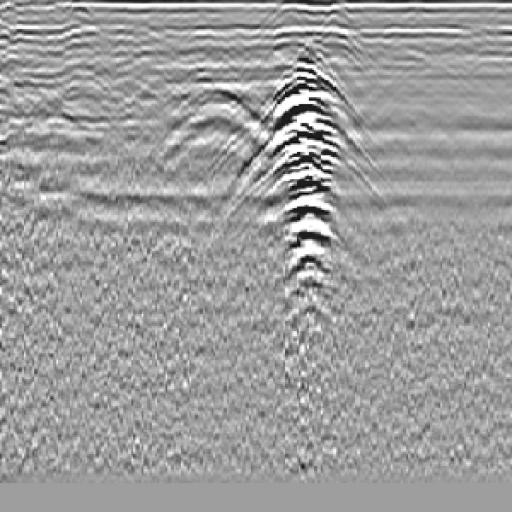metalic: (258, 45, 352, 314)
nonmetalic: (156, 75, 275, 162)
